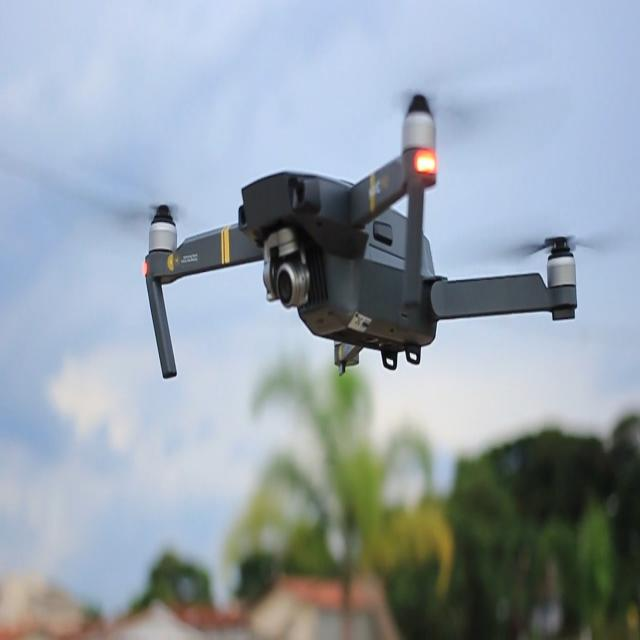Drone: (140, 96, 576, 381)
